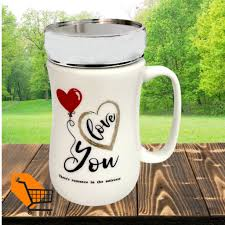mug: (37, 17, 189, 204)
